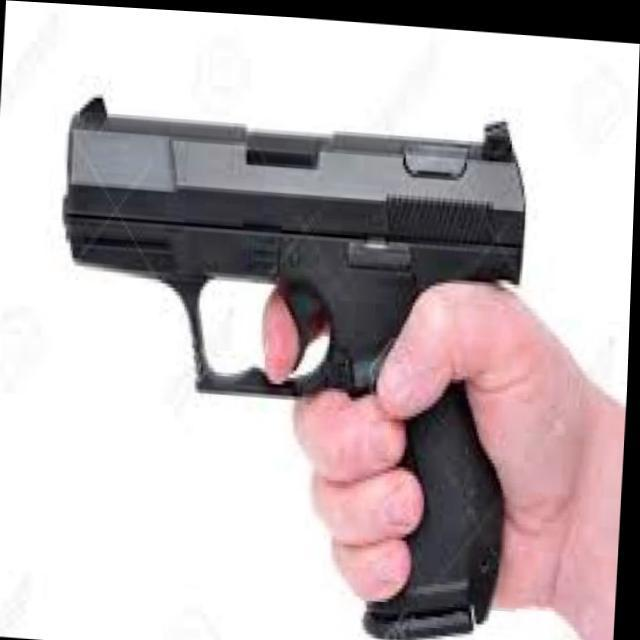weapon: (42, 79, 531, 640)
